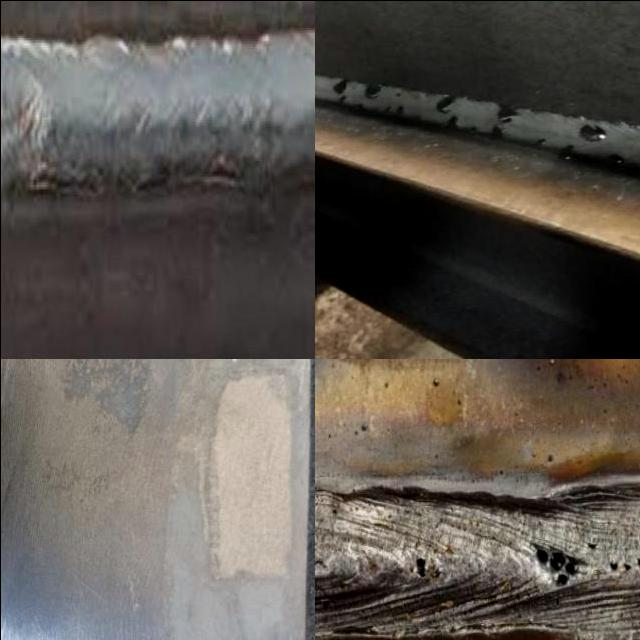defect: (529, 539, 591, 590), (572, 122, 609, 145), (493, 101, 527, 125), (605, 553, 640, 575), (407, 555, 429, 580), (331, 76, 350, 103), (432, 93, 456, 113), (555, 142, 576, 160), (360, 82, 383, 97), (446, 113, 462, 131), (606, 152, 625, 167), (381, 103, 405, 113), (489, 124, 505, 137), (532, 135, 547, 147), (585, 538, 597, 549), (467, 122, 476, 132), (394, 90, 404, 98)
